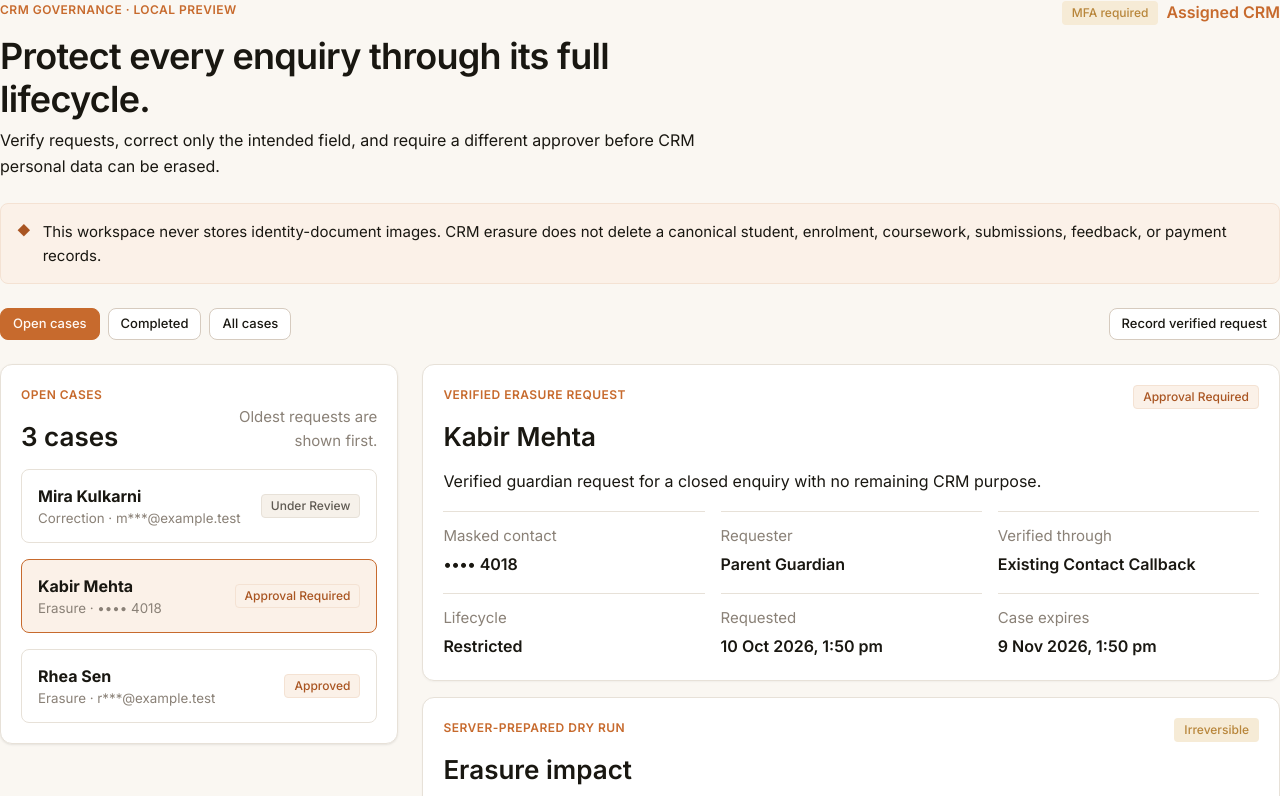
Test case: CrmPrivacyPage › applies a field-scoped correction without retaining readable prior content
Click the button "Mira Kulkarni Correction · m***@example.test Under Review": (90, 496) [21,469,377,543]
(page scrolled)
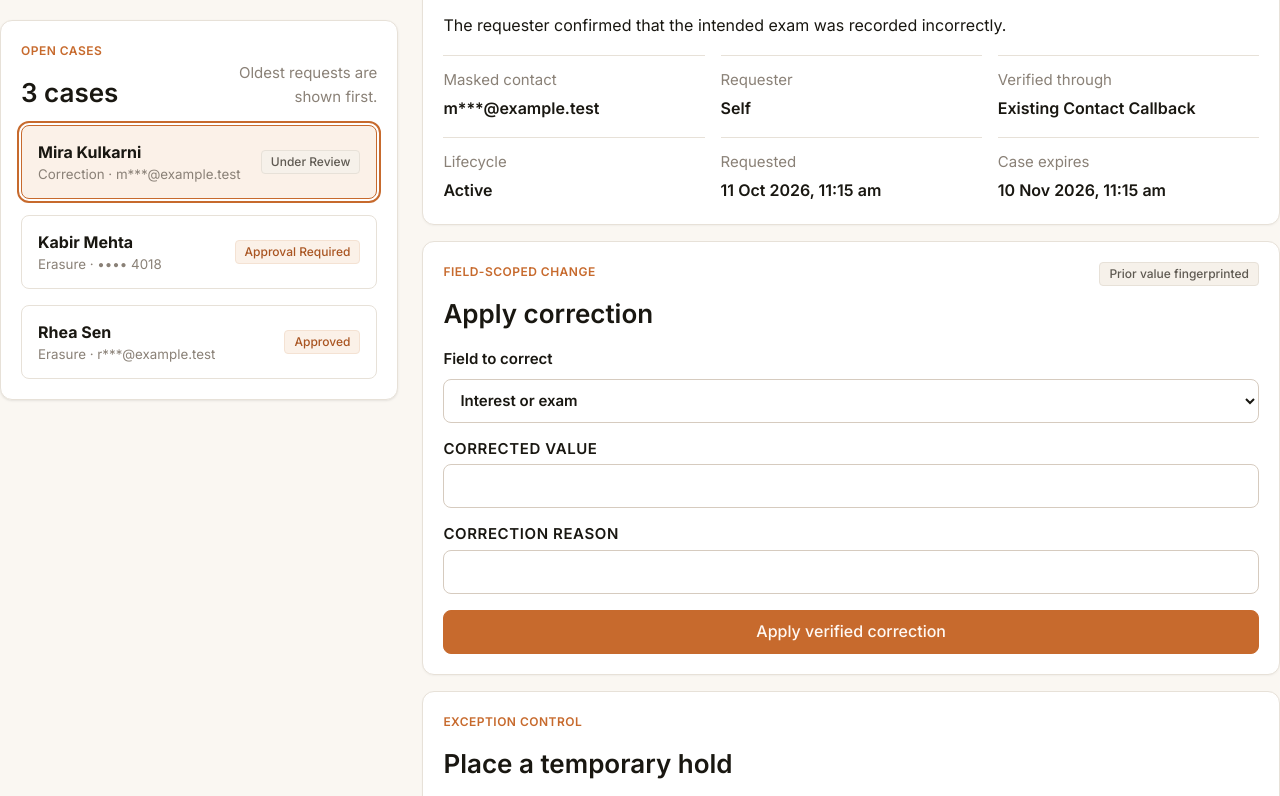
Select "Interest or exam" in the dropdown labelled "Field to correct": (851, 400) [443,378,1259,422]
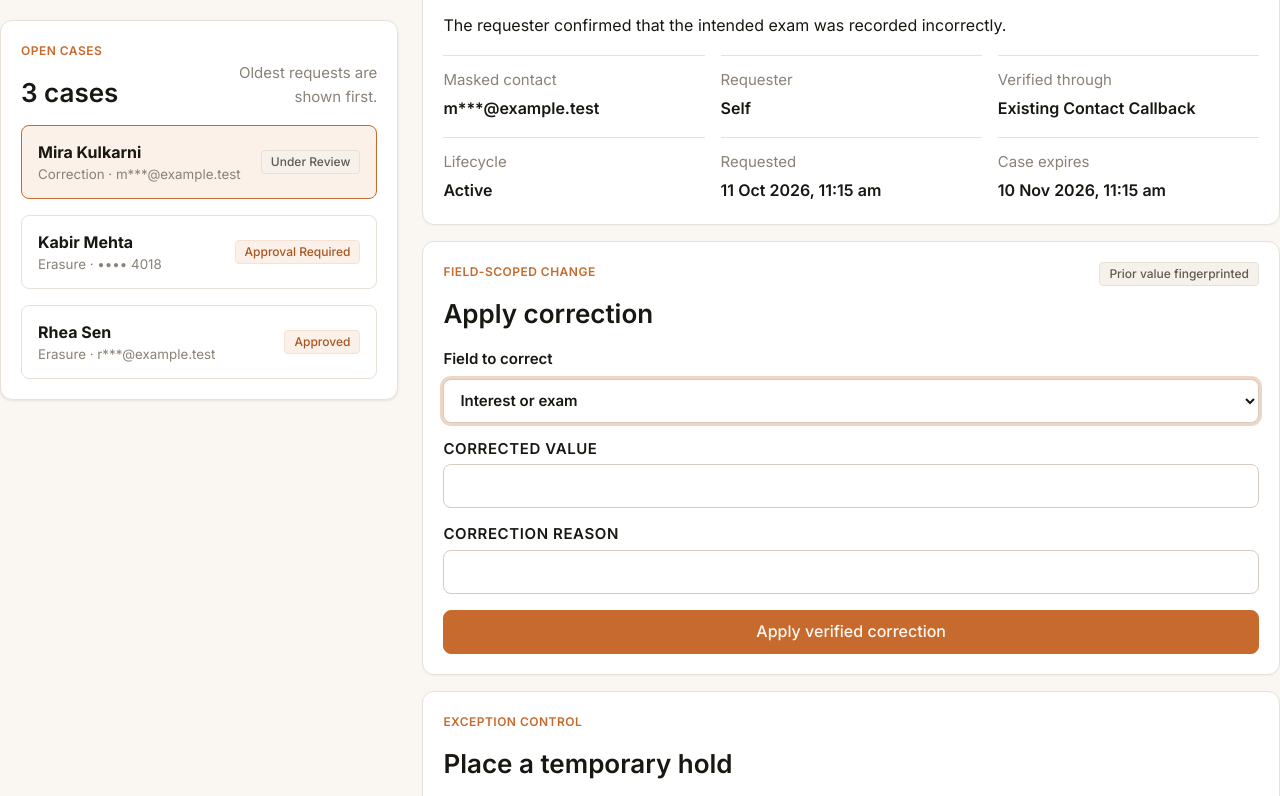
In the field labelled "Corrected value": (851, 486) [443,464,1259,508], type "UCEED preparation"
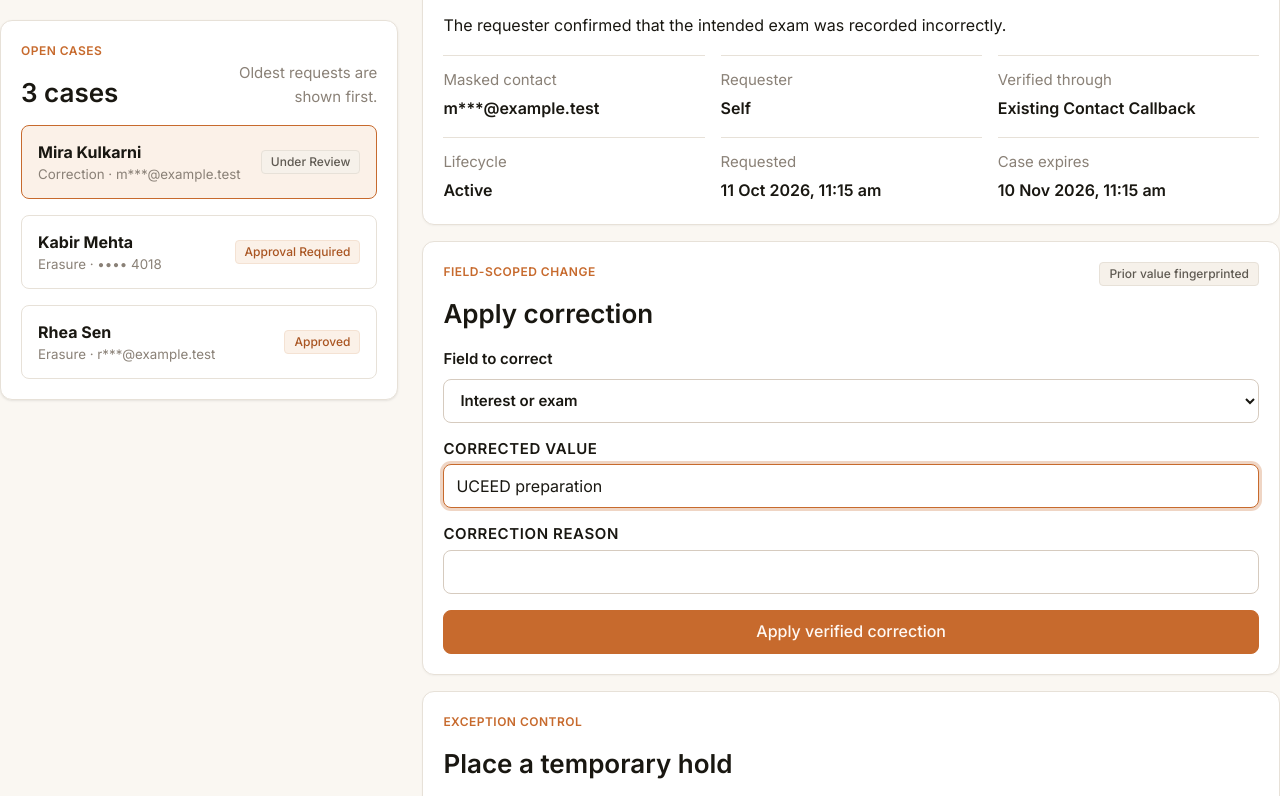
In the field labelled "Correction reason": (851, 572) [443,550,1259,594], type "Requester confirmed the intended exam"
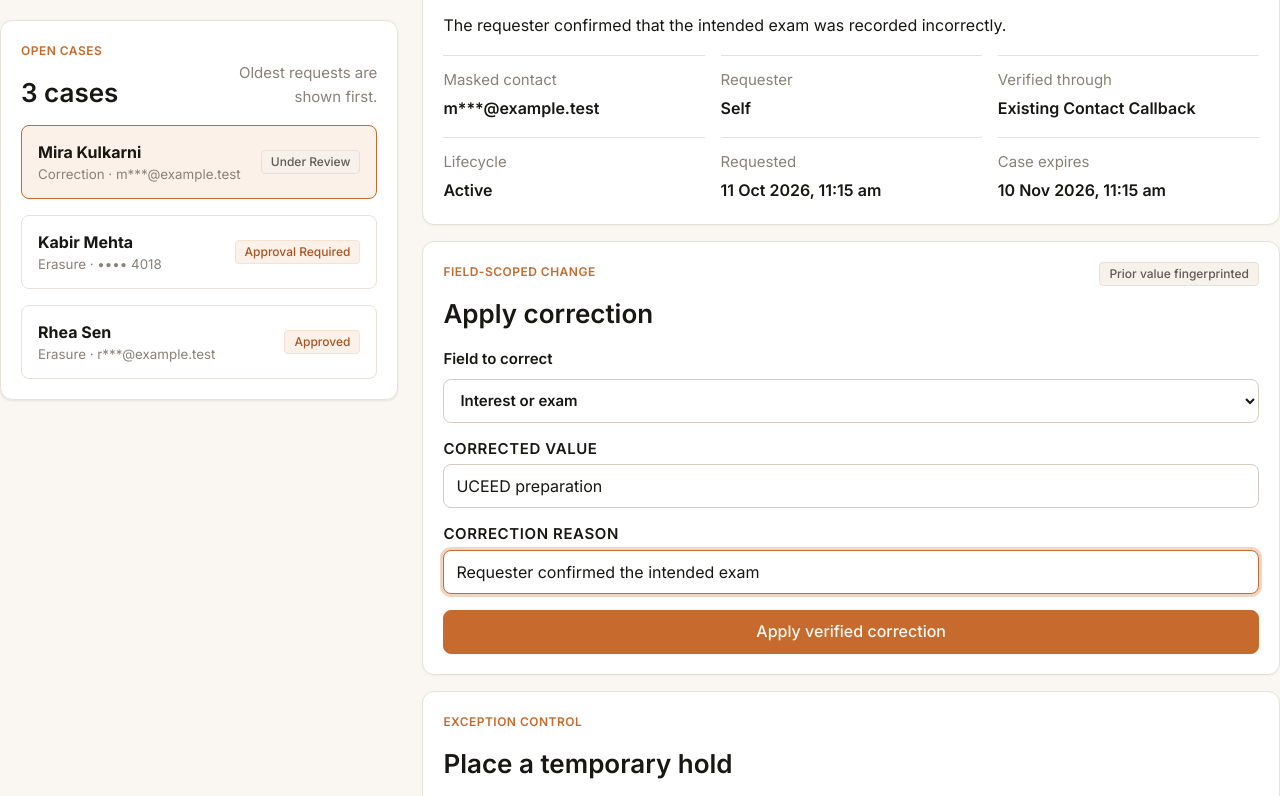
Click the button "Apply verified correction": (851, 632) [443,610,1259,654]
(page scrolled)
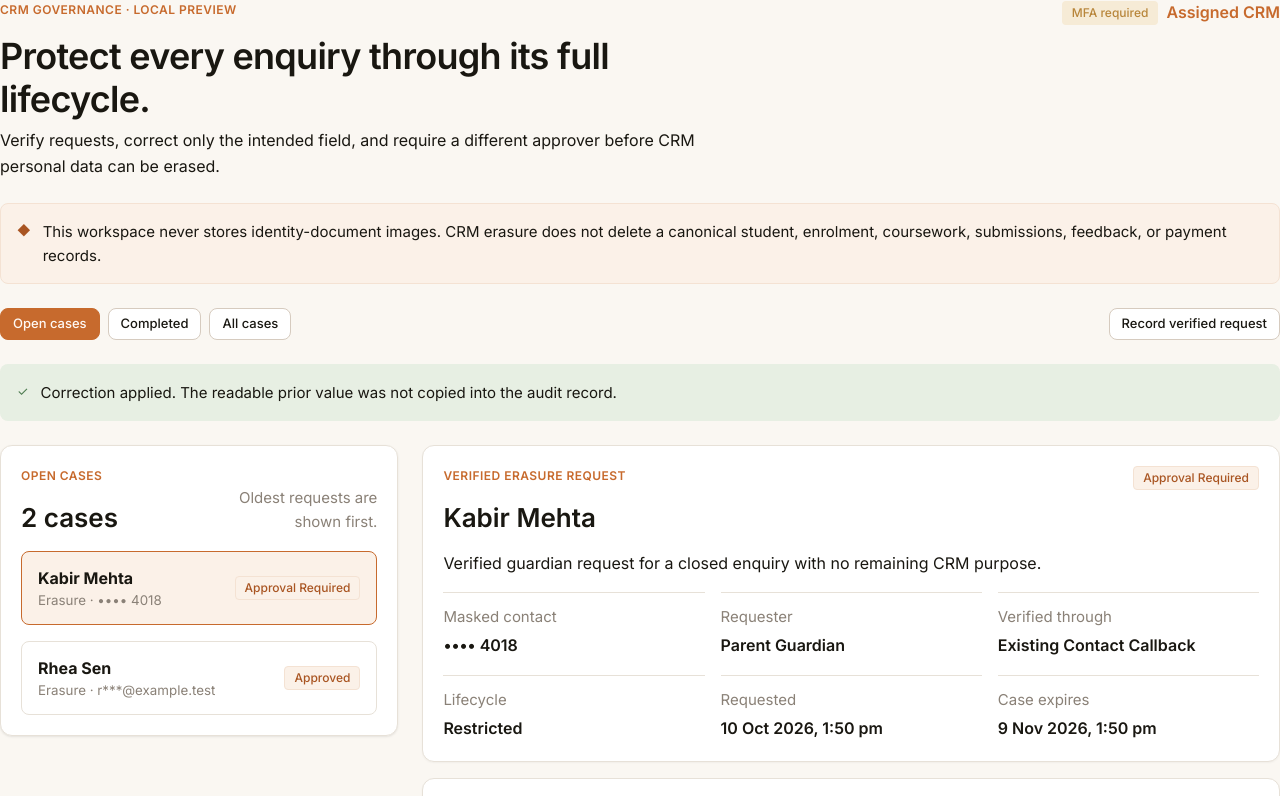
Now the text "readable prior value was not copied" is shown, box [40,383,617,402]
